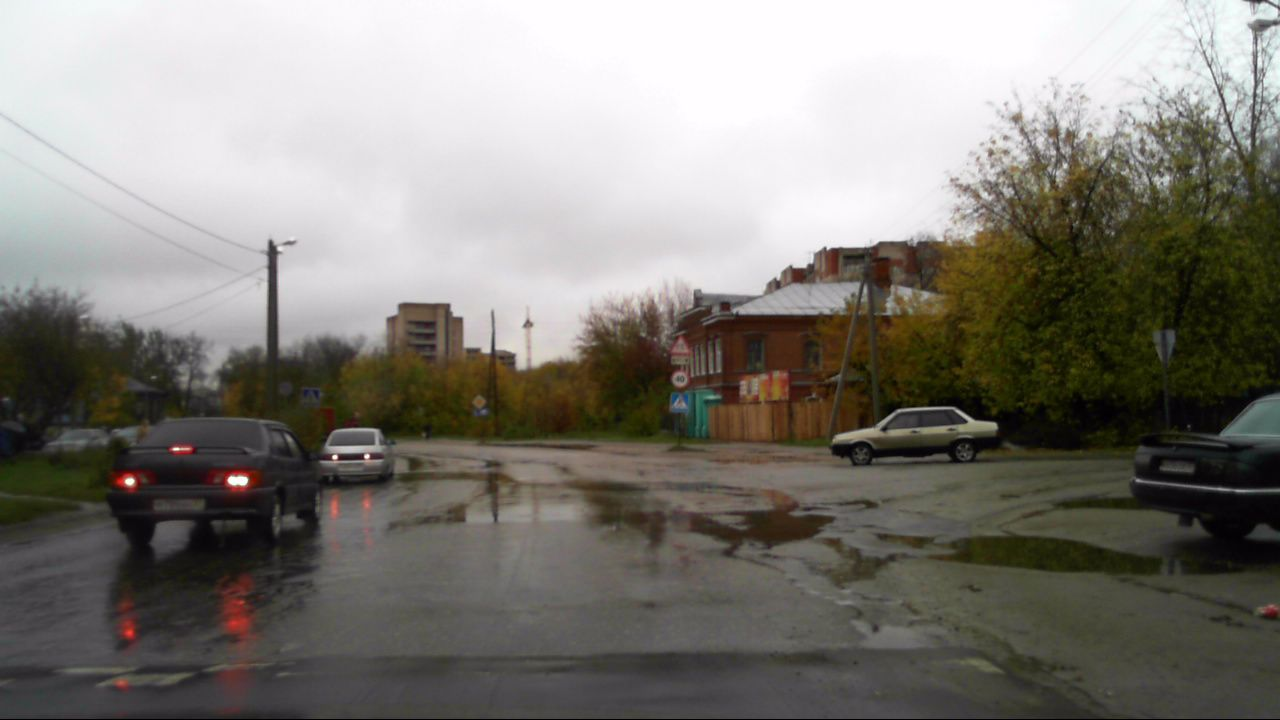speed_warning_40: (671, 371, 689, 388)
